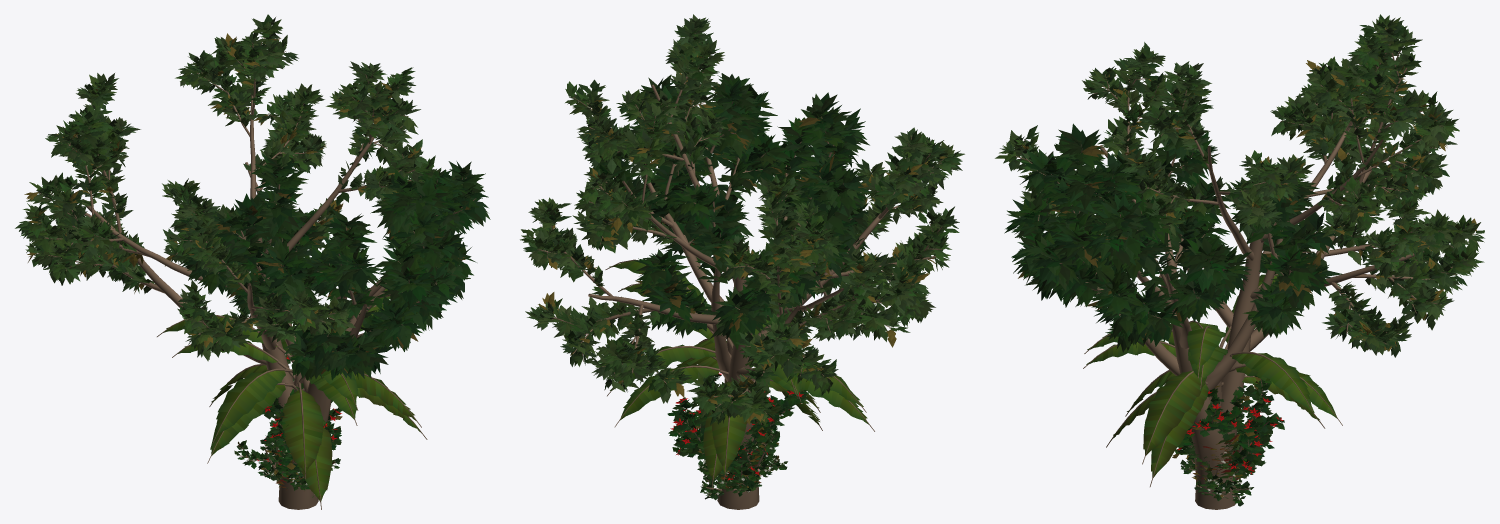
File: plants.glb
The picture shows the model from 3 angles, left to right: view 1: azimuth 30°, elevation 25°; view 2: azimuth 150°, elevation 25°; view 3: azimuth 270°, elevation 25°; orthographic projection. The views are drawn at different scales.
Parts seen in each view (by area): view 1: NeemLeaves, MangoLeaves, Banana2Leaves, NeemBark, BananaLeaves, MangoBark, HibiscusLeaves, MograLeaves, Banana2Bark; view 2: NeemLeaves, MangoLeaves, NeemBark, BananaLeaves, HibiscusLeaves, Banana2Leaves, MangoBark, MograLeaves, Banana2Bark; view 3: NeemLeaves, MangoLeaves, NeemBark, MangoBark, Banana2Leaves, HibiscusLeaves, BananaLeaves, MograLeaves, Banana2Bark, CrotonLeaves, BananaBark, HibiscusFlowers.
Boxes of the visible parts, x1,y1,x2,y2 form: NeemLeaves: [15, 14, 439, 361]; MangoLeaves: [172, 152, 490, 380]; Banana2Leaves: [163, 288, 415, 473]; NeemBark: [34, 37, 415, 445]; BananaLeaves: [178, 302, 421, 501]; MangoBark: [218, 167, 476, 509]; HibiscusLeaves: [258, 355, 342, 473]; MograLeaves: [234, 440, 340, 497]; Banana2Bark: [157, 315, 421, 479]; NeemLeaves: [520, 14, 964, 425]; MangoLeaves: [587, 73, 873, 349]; NeemBark: [533, 33, 947, 454]; BananaLeaves: [620, 284, 868, 480]; HibiscusLeaves: [667, 374, 808, 489]; Banana2Leaves: [609, 261, 863, 473]; MangoBark: [605, 101, 852, 509]; MograLeaves: [697, 418, 787, 500]; Banana2Bark: [605, 259, 866, 480]; NeemLeaves: [995, 14, 1484, 357]; MangoLeaves: [1004, 110, 1342, 352]; NeemBark: [1014, 29, 1474, 455]; MangoBark: [1037, 144, 1318, 509]; Banana2Leaves: [1087, 273, 1314, 455]; HibiscusLeaves: [1166, 375, 1284, 472]; BananaLeaves: [1086, 326, 1337, 477]; MograLeaves: [1180, 409, 1265, 506]; Banana2Bark: [1084, 274, 1316, 464]; CrotonLeaves: [1192, 434, 1242, 488]; BananaBark: [1083, 340, 1342, 486]; HibiscusFlowers: [1177, 391, 1283, 474].
Bounding box in the file's own units: 5.29 × 5.79 × 5.53.
